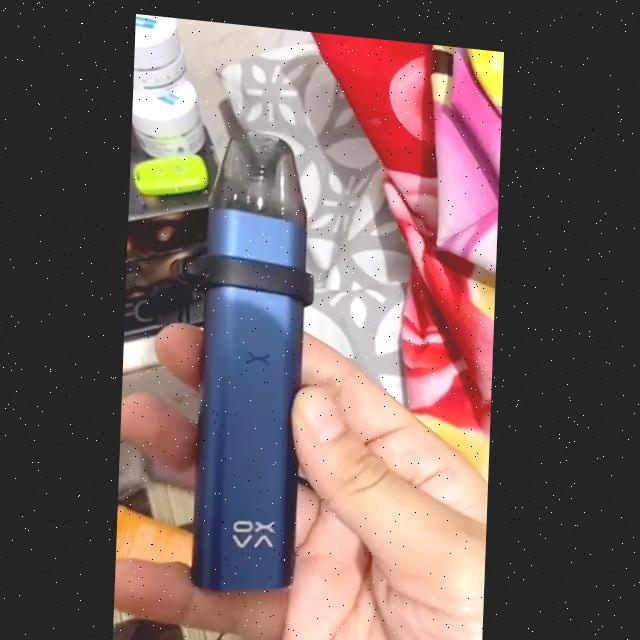vape: (198, 122, 316, 594)
